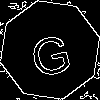G: (25, 25, 74, 79)
